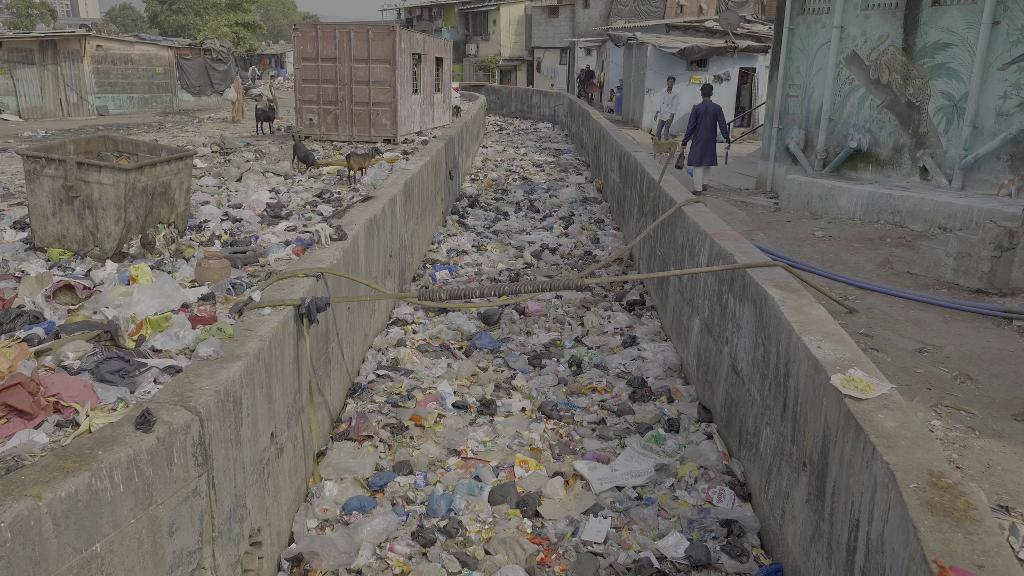dustbin: (14, 124, 198, 260)
garbage: (828, 360, 894, 406), (37, 281, 108, 312), (714, 518, 754, 566), (91, 354, 147, 388), (329, 440, 376, 480), (650, 528, 694, 558), (512, 452, 551, 482), (696, 483, 741, 509), (467, 329, 504, 354), (342, 493, 379, 517), (623, 375, 654, 402), (358, 343, 380, 379), (504, 352, 534, 374), (672, 383, 699, 406), (476, 306, 503, 327), (537, 400, 562, 422), (441, 454, 468, 472), (476, 398, 499, 416), (661, 417, 681, 435), (537, 321, 562, 334), (450, 314, 468, 332), (555, 435, 577, 449), (527, 352, 545, 369), (491, 420, 507, 438), (452, 398, 470, 413), (224, 86, 237, 103), (529, 384, 540, 401)
